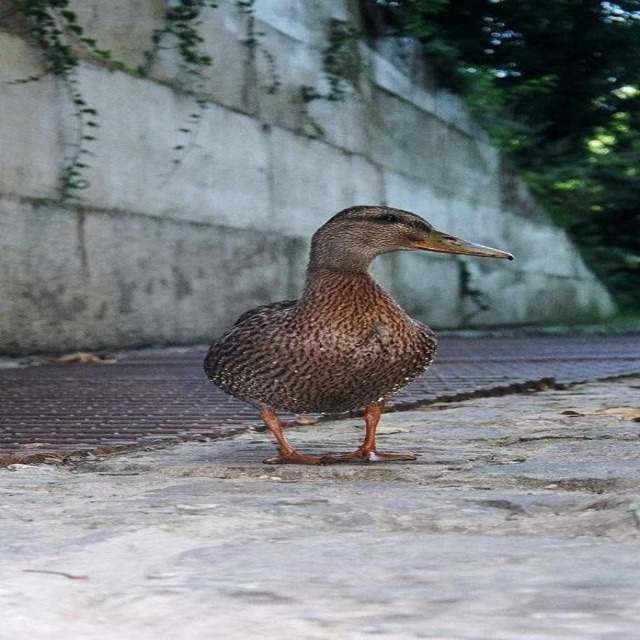Duck: (178, 203, 507, 464)
